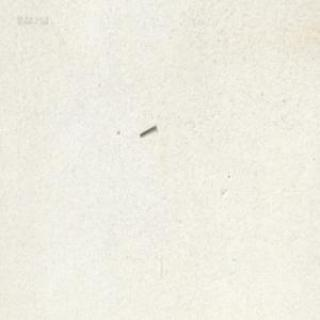Bolttrack_idkeyframe: (137, 122, 155, 136)
